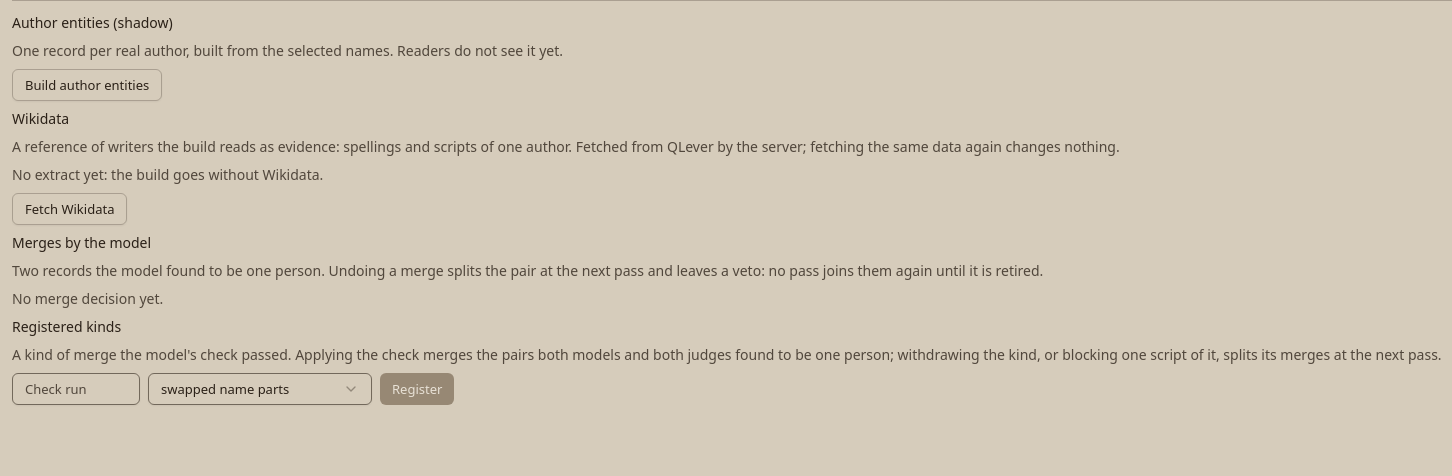
Scenario: AuthorEntityBlock › says when a fetch is already running
Click the button "Fetch Wikidata" at (70, 209), box x1=12 y1=193 x2=128 y2=225
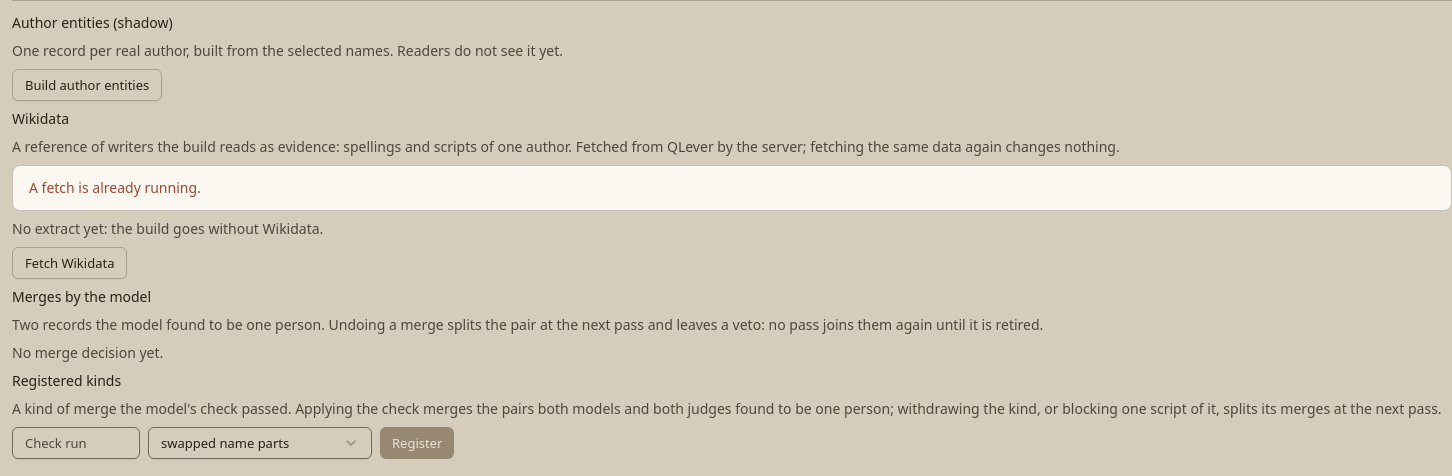
Expected: the text "A fetch is already running." is shown, x1=29 y1=178 x2=201 y2=197
